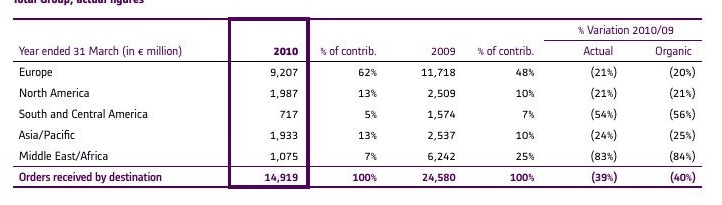table: (0, 0, 722, 205)
